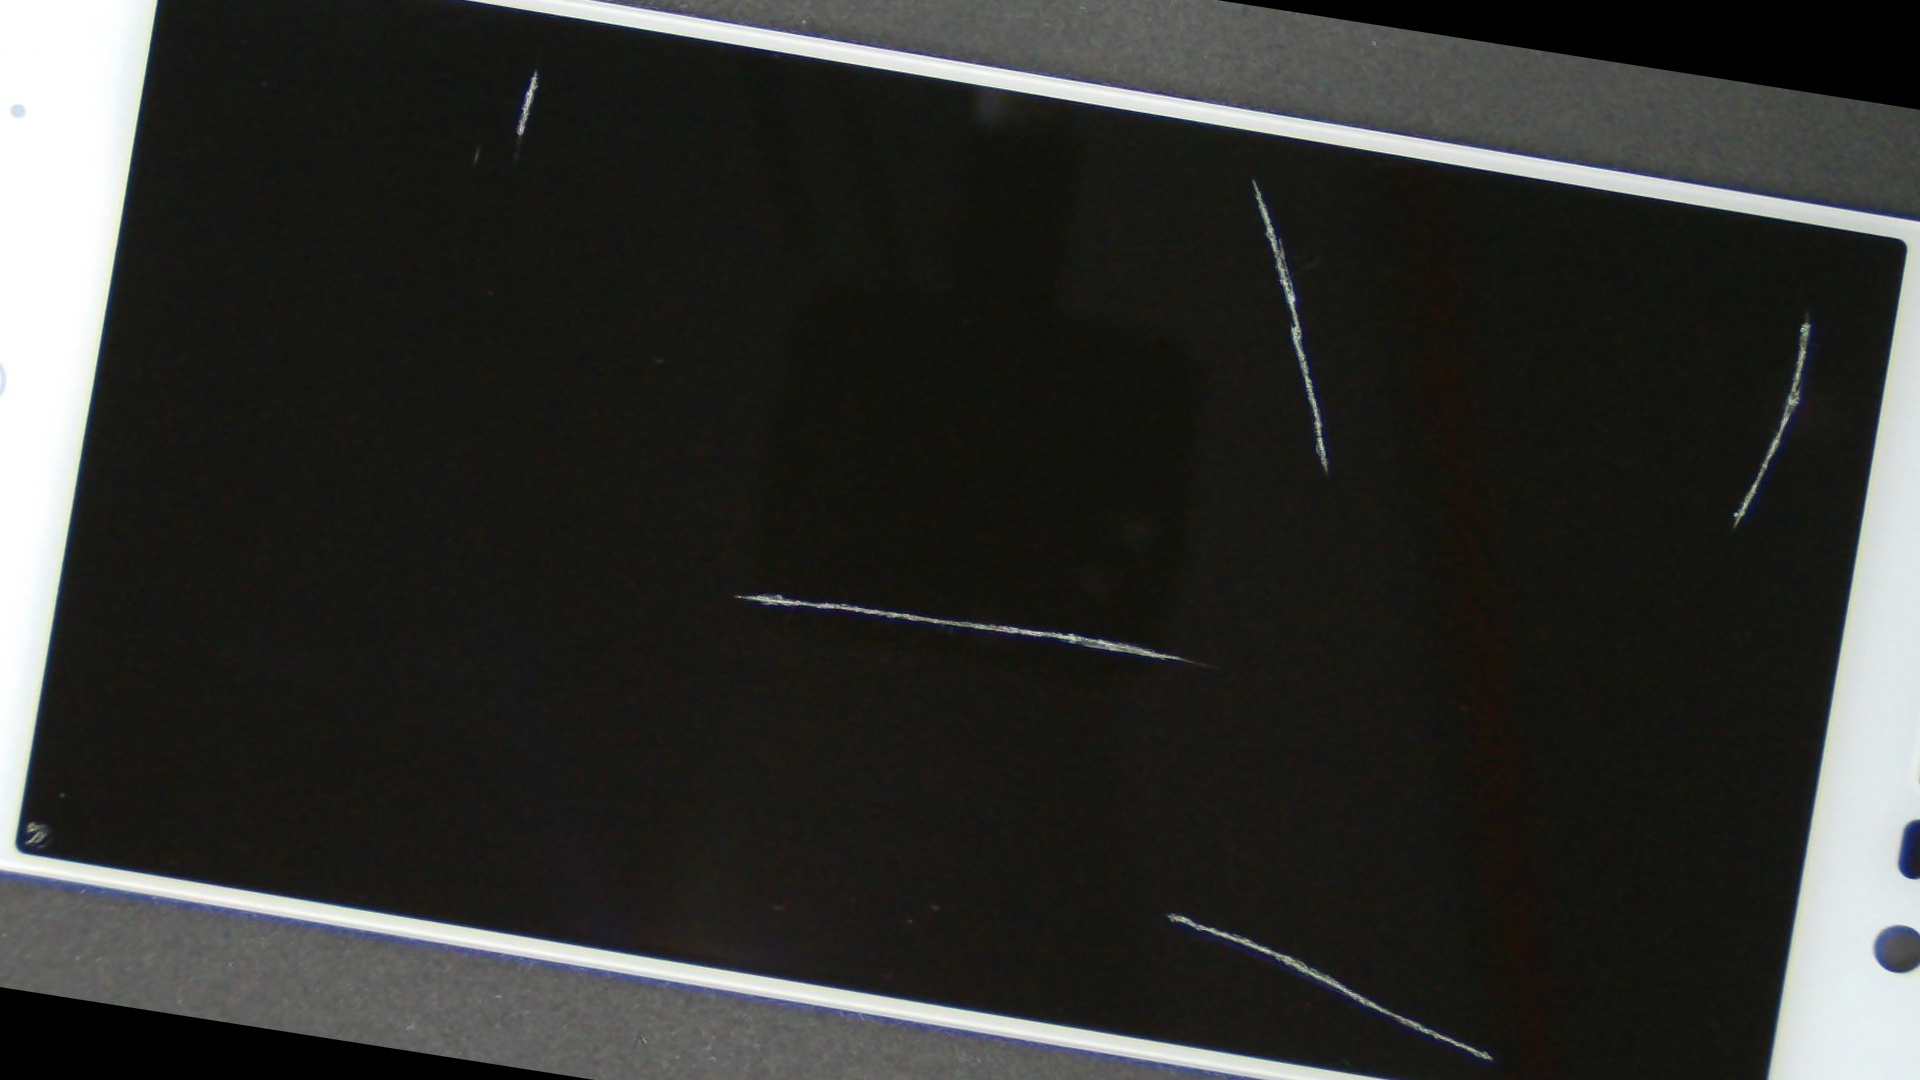oil: (402, 216, 1738, 1051), (446, 356, 1920, 1080), (566, 0, 1920, 371), (836, 47, 1920, 475), (165, 0, 790, 323), (0, 309, 235, 1007), (208, 0, 862, 206)
